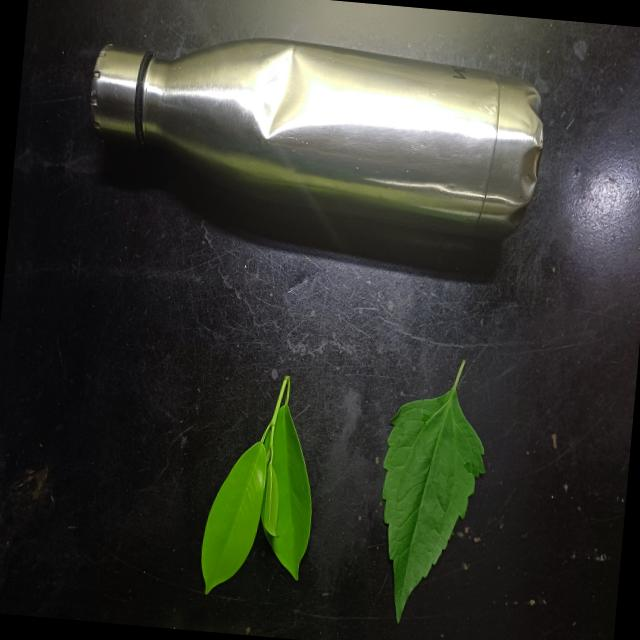Leaf-Bio: (365, 352, 497, 634), (190, 364, 326, 605)
Steel-NonBio: (76, 18, 553, 248)
